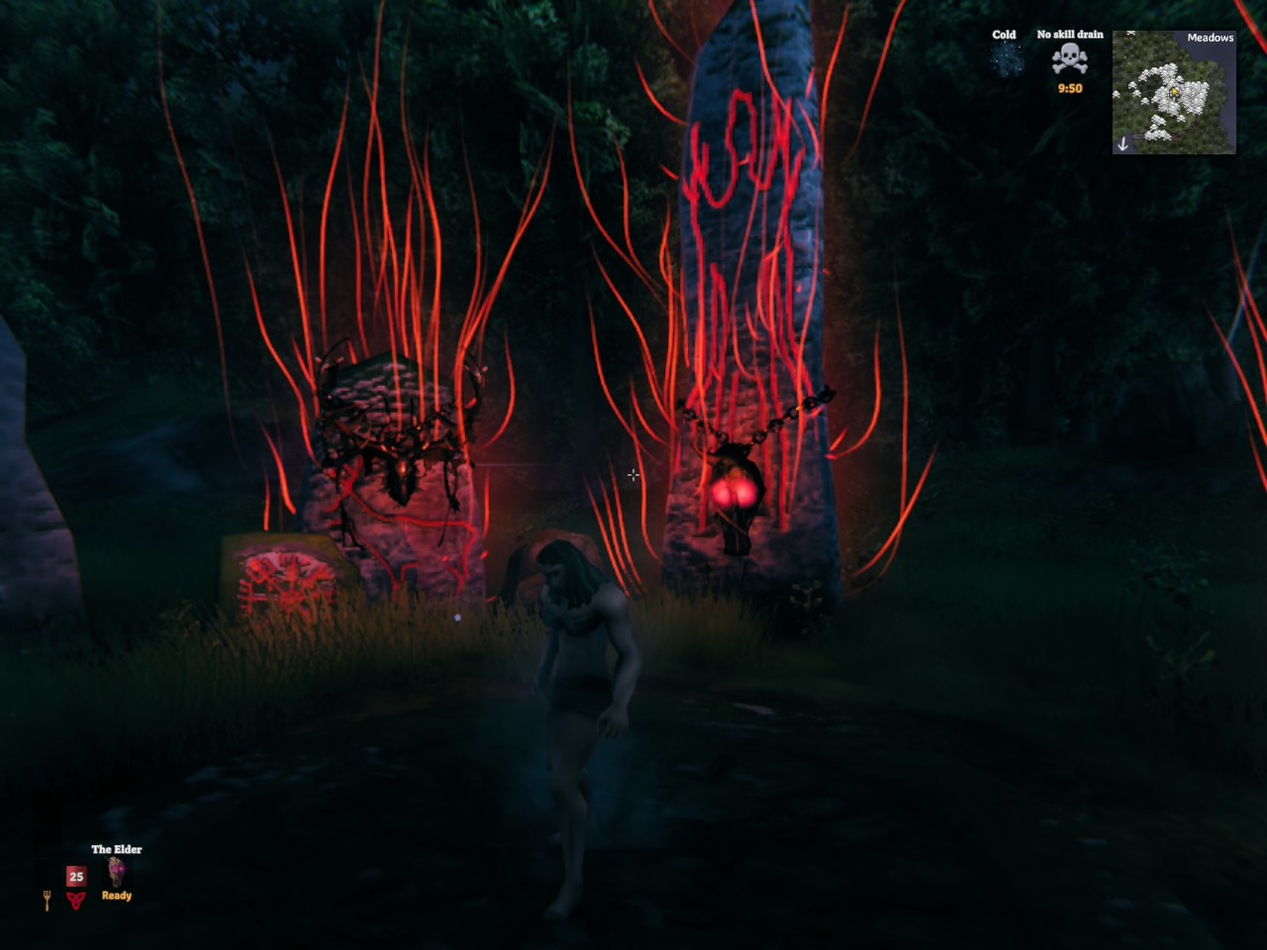Rune Stone: (221, 532, 363, 621)
